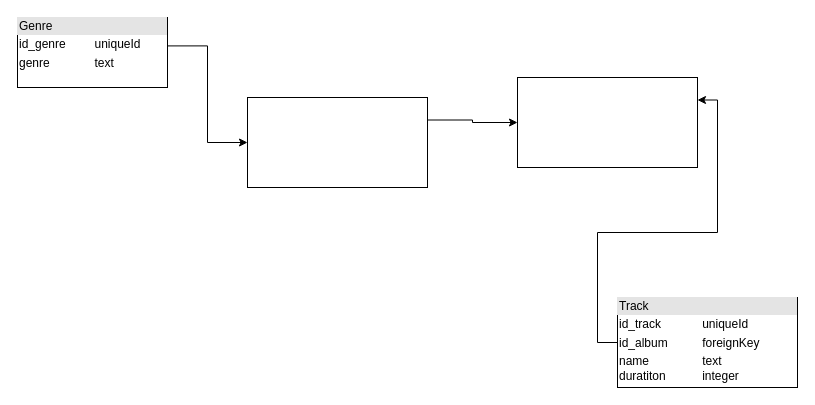
Image size: 815x405. Some labels were removed from this diagram. The shapes that lost their labels are listed below. From the top down, each one's centre as x and y in pixels, then its label:
the point at 337,142: Artist id_artist uniqueId id_genre foreignKey name text
the point at 607,122: Album id_album uniqueId id_artist foreignKey title year text date
